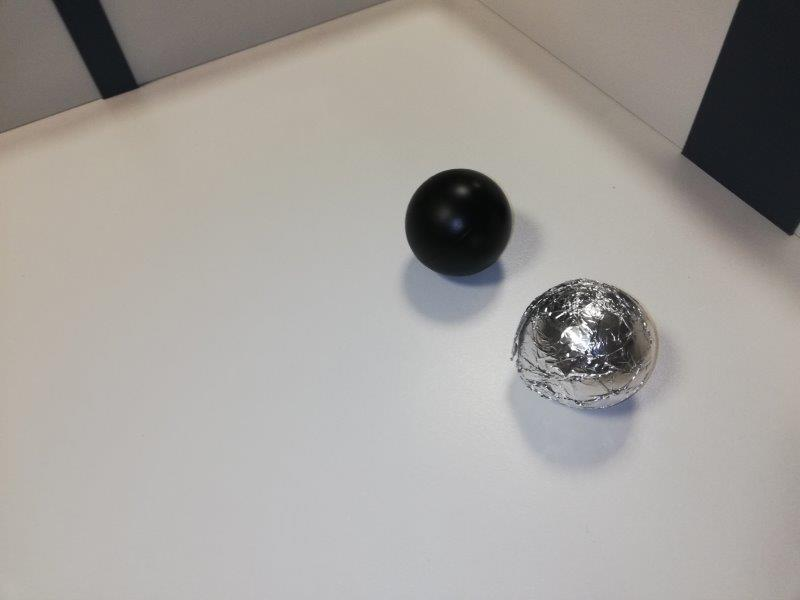bianca: (511, 279, 661, 410)
nera: (405, 168, 515, 276)
